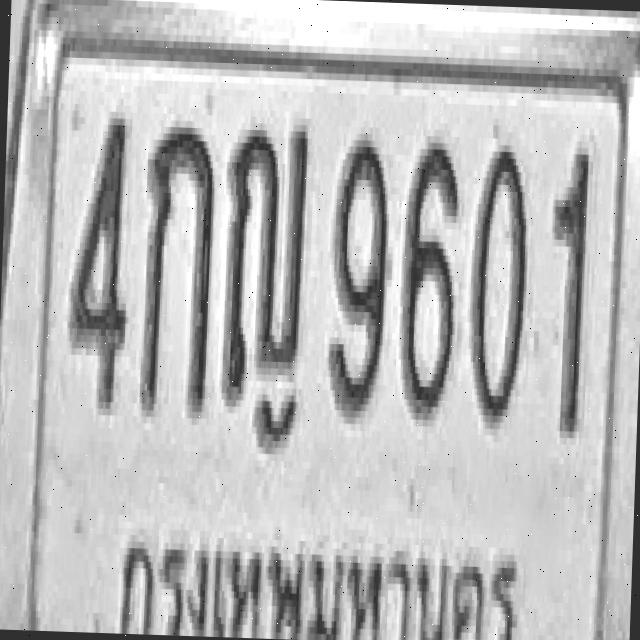0: (467, 137, 530, 429)
1: (546, 143, 590, 434)
10GorGai: (138, 120, 216, 418)
22YorYing: (220, 115, 310, 408)
4: (66, 110, 132, 409)
6: (397, 136, 460, 420)
9: (324, 130, 390, 422)
Bangkok: (115, 505, 531, 640)
